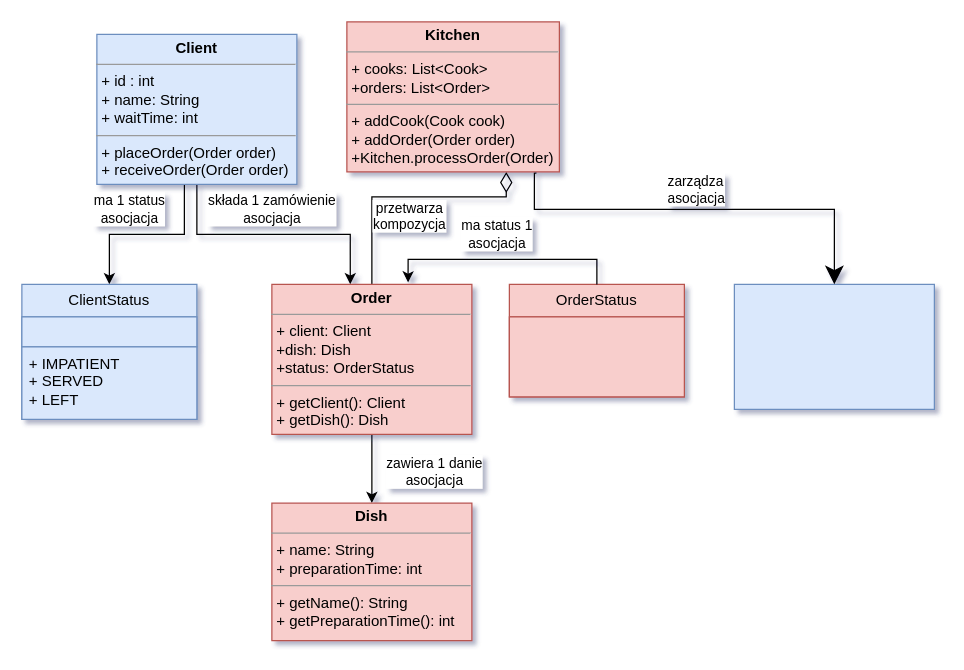
Some shapes in this 964 by 670 pixel diagram are drawn without their labels. The centre of each missing label's shape, as x and y in pixels:
"+PENDING +IN_PROGRESS +READY +CANCELLED" belongs at (596,356).
"+WAITING" belongs at (109,331).
"Cook + id: int + name: String + prepareDish(Dish dish) +currentOrder: Order" belongs at (833,346).
